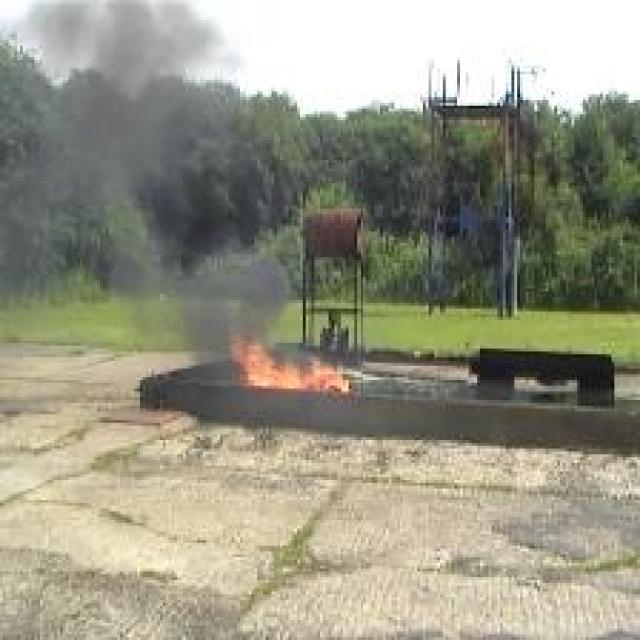Fire: (232, 322, 348, 394)
